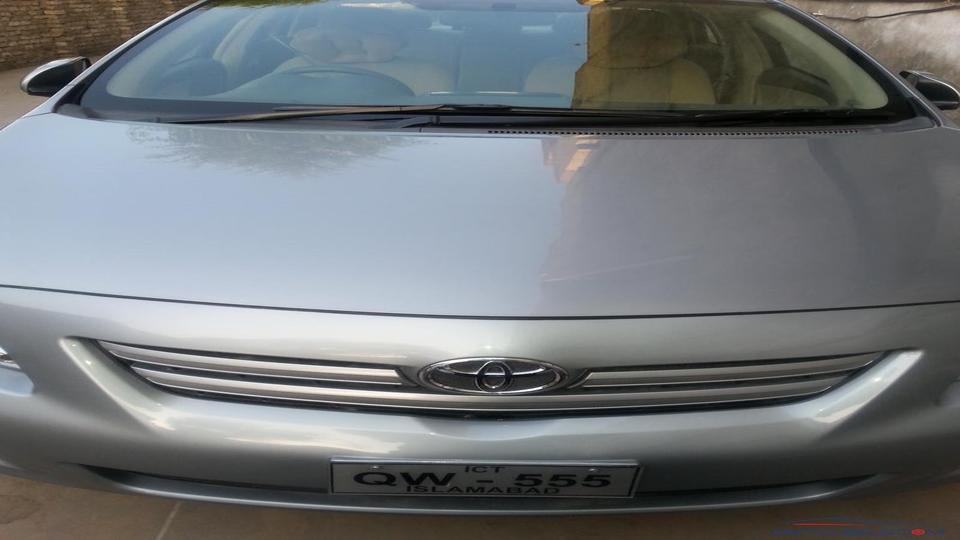NumberPlate: (308, 451, 661, 521)
